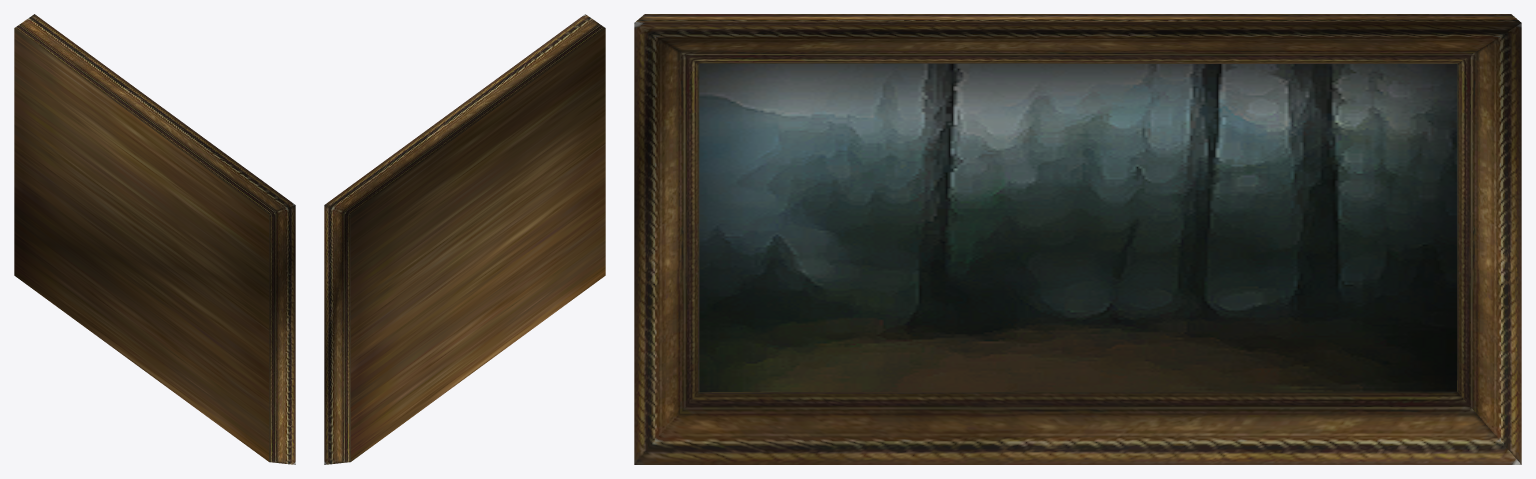
The model's file is stormwindpainting05.obj.
3 views of the same model, side by side, from view 1: azimuth 30°, elevation 25°; view 2: azimuth 150°, elevation 25°; view 3: azimuth 270°, elevation 25° (orthographic). The views are drawn at different scales.
Visible parts, largest first — view 1: stormwindpainting05.m2; view 2: stormwindpainting05.m2; view 3: stormwindpainting05.m2.
Part boxes in pixels (x1=…): stormwindpainting05.m2: x1=14, y1=14, x2=295, y2=464; stormwindpainting05.m2: x1=324, y1=14, x2=605, y2=464; stormwindpainting05.m2: x1=634, y1=14, x2=1521, y2=464.
Size of the model in its own units: 0.2111 by 2.25 by 4.1.
1 material, 1 textured.
